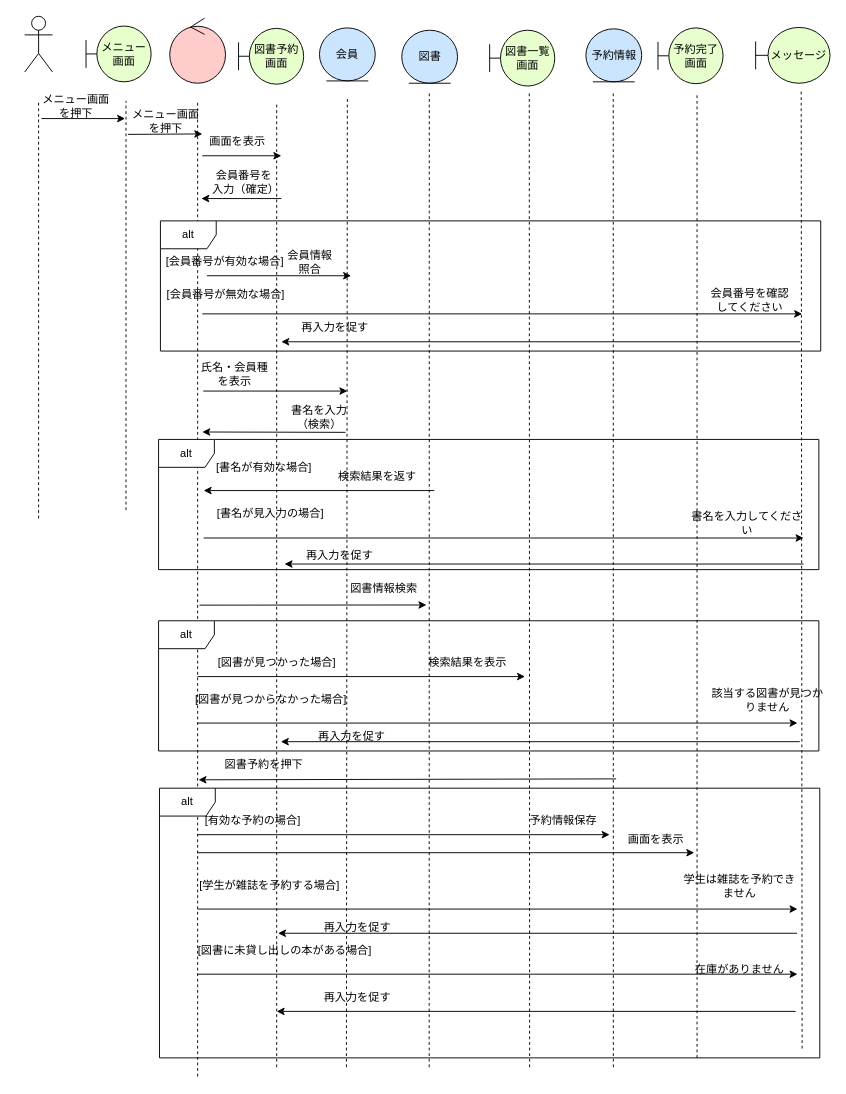
Some shapes in this 846 by 1094 pixel diagram are drawn without their labels. The centre of each missing label's shape, as x and y in pixels:
事務職員: point 38,43
図書予約制御: point 197,50
